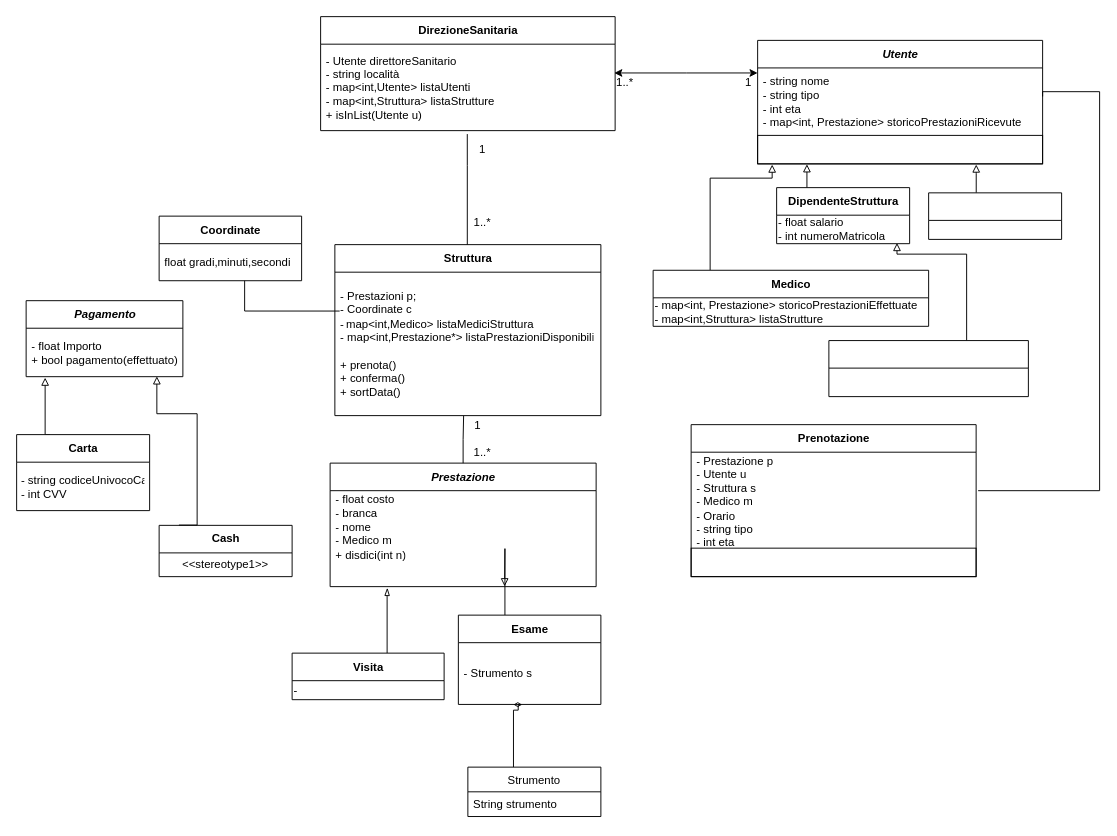
This 1117x836 diagram has some shape labels left out. The shapes that lost their labels are listed below. From the top down, each one's centre as x and y in pixels, then its label:
the point at 995,215: Cittadino
the point at 928,368: AmministrativoCup
the point at 833,562: + prenota(Prestazione p)
